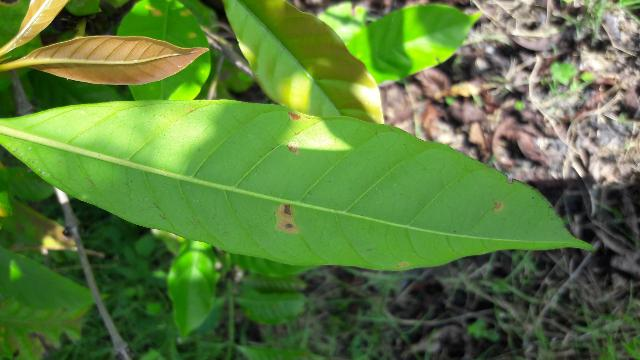red_spider_mite: (1, 98, 582, 268)
